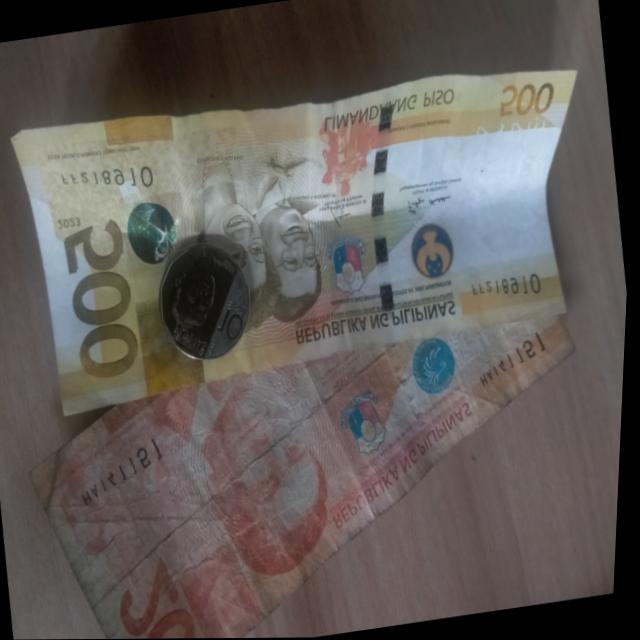10_New_Front: (156, 247, 253, 358)
